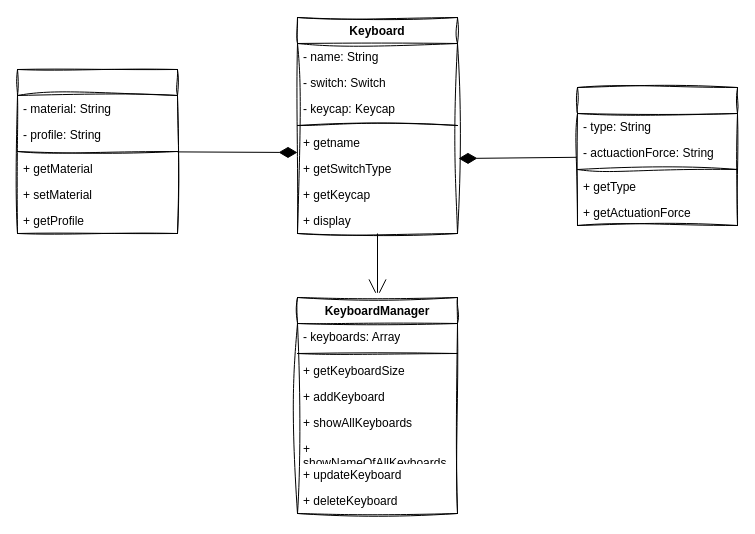
The diagram is 755 pixels wide and 534 high, and some of its shapes have lost their labels. The shapes that lost their labels are listed below. From the top down, each one's box as (x1, y1, x2, y2) in pixels, then its label:
(16, 68, 178, 234): Keycap
(576, 86, 738, 226): Switch
